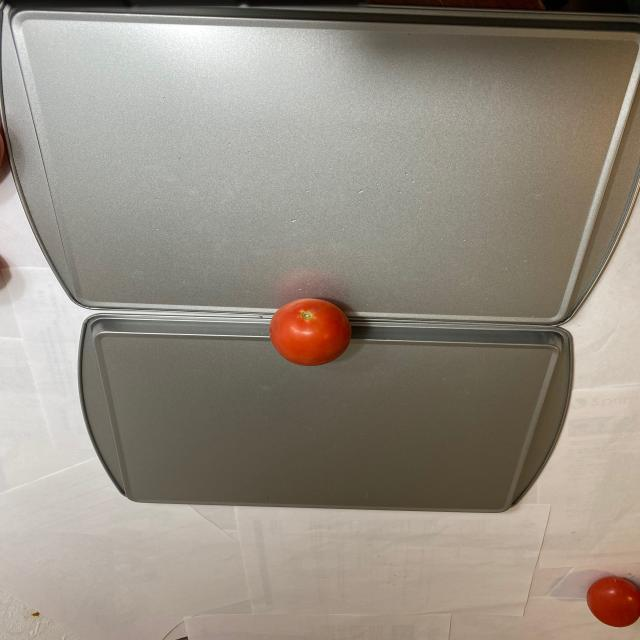tomato: (263, 297, 358, 370), (580, 566, 638, 630)
